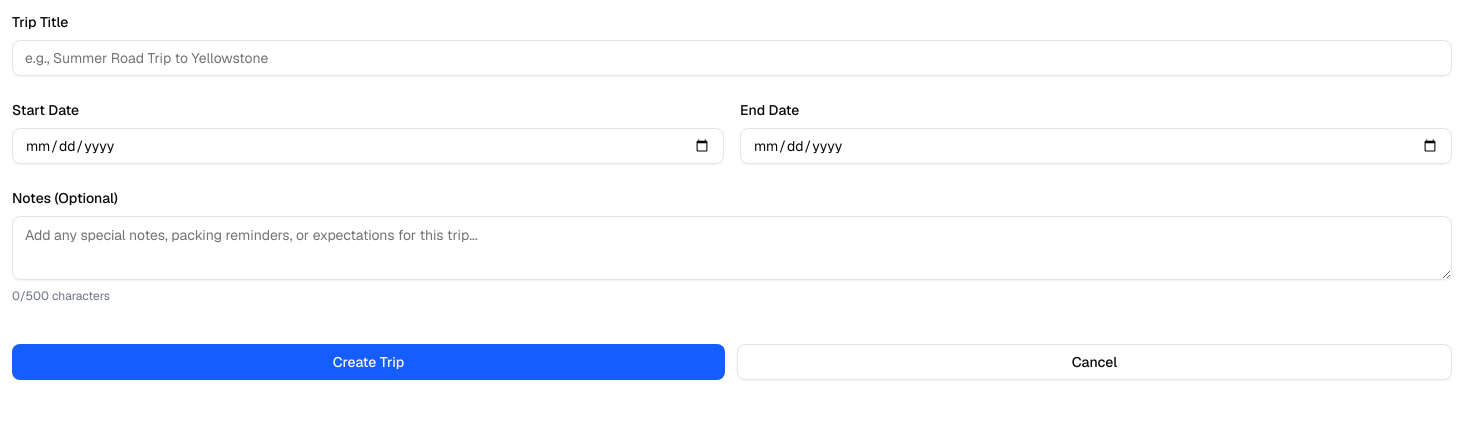
Test case: TripForm Component › Form Validation › should show validation error for invalid date range
Type "Test Trip" into the field labelled "Trip Title" at coordinates (732, 58), box [12,40,1452,76]
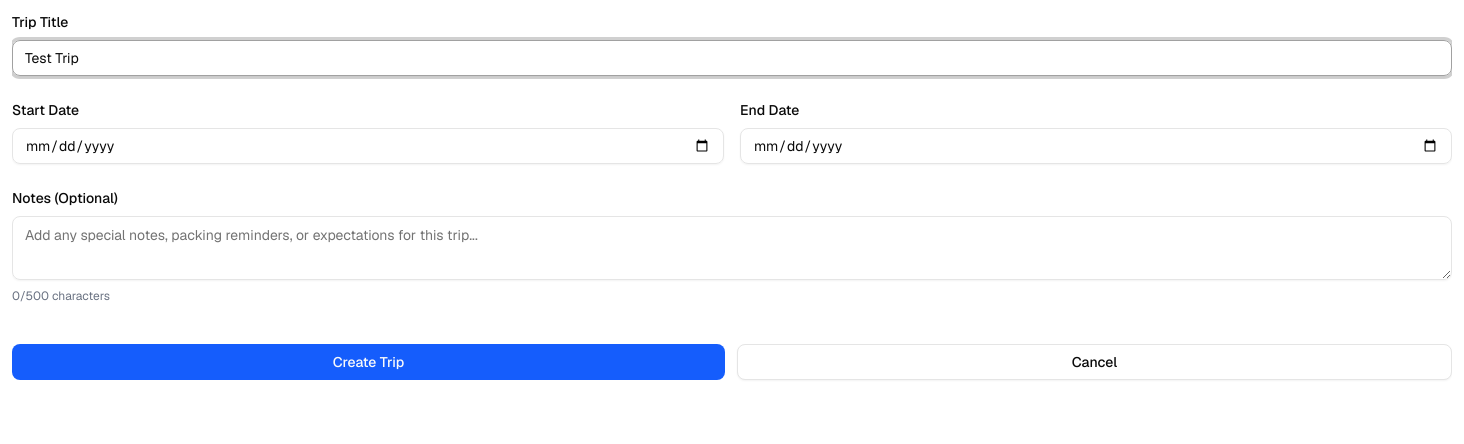
Type "2025-07-07" into the date field labelled "Start Date" at coordinates (368, 146), box [12,128,724,164]
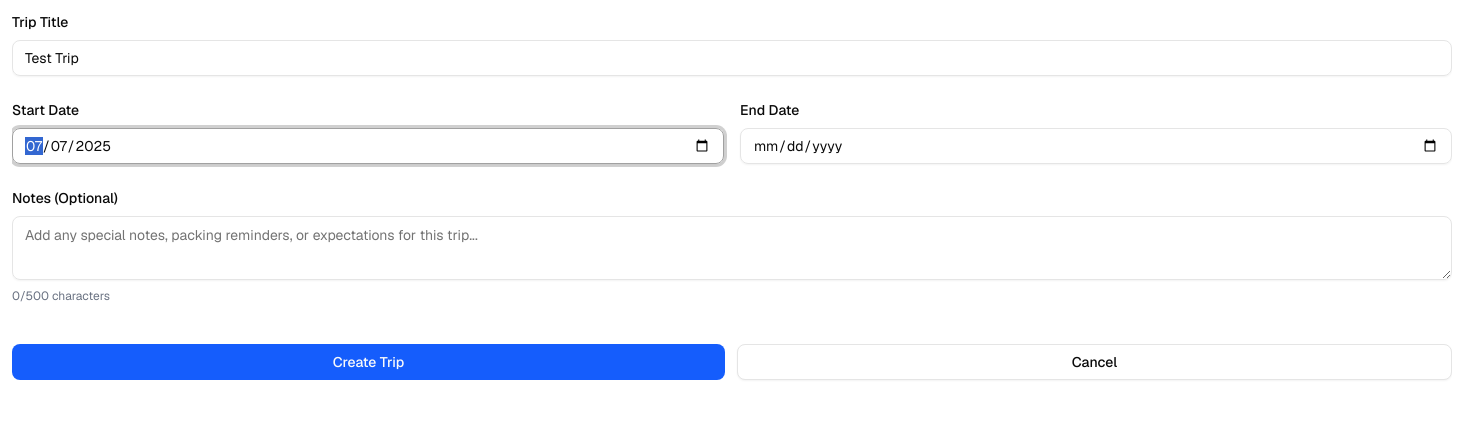
Type "2025-07-01" into the date field labelled "End Date" at coordinates (1096, 146), box [740,128,1452,164]
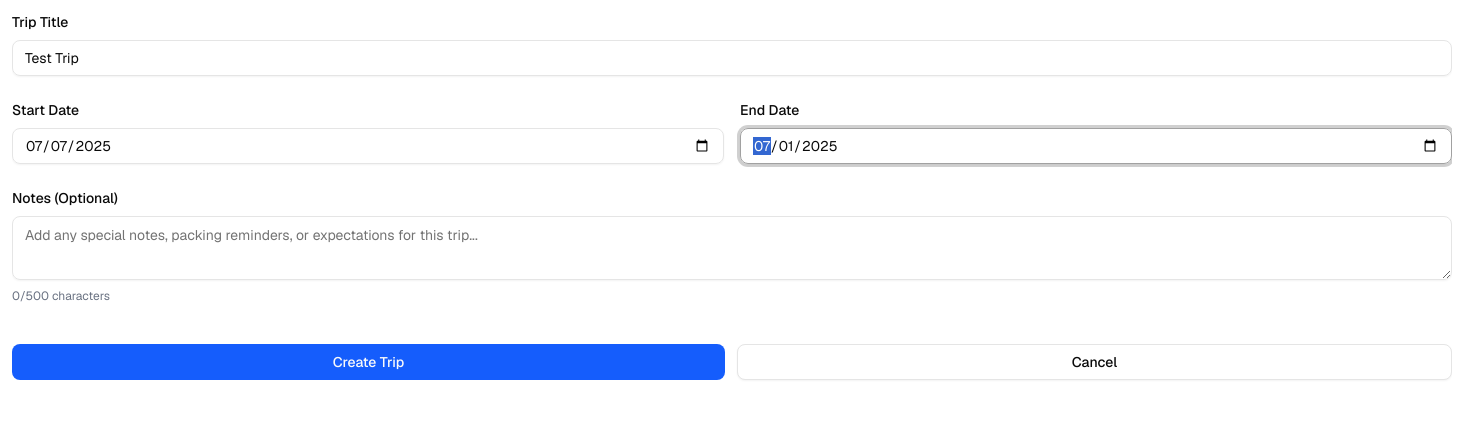
Click the button "Create Trip" at coordinates (368, 362), box [12,344,725,380]
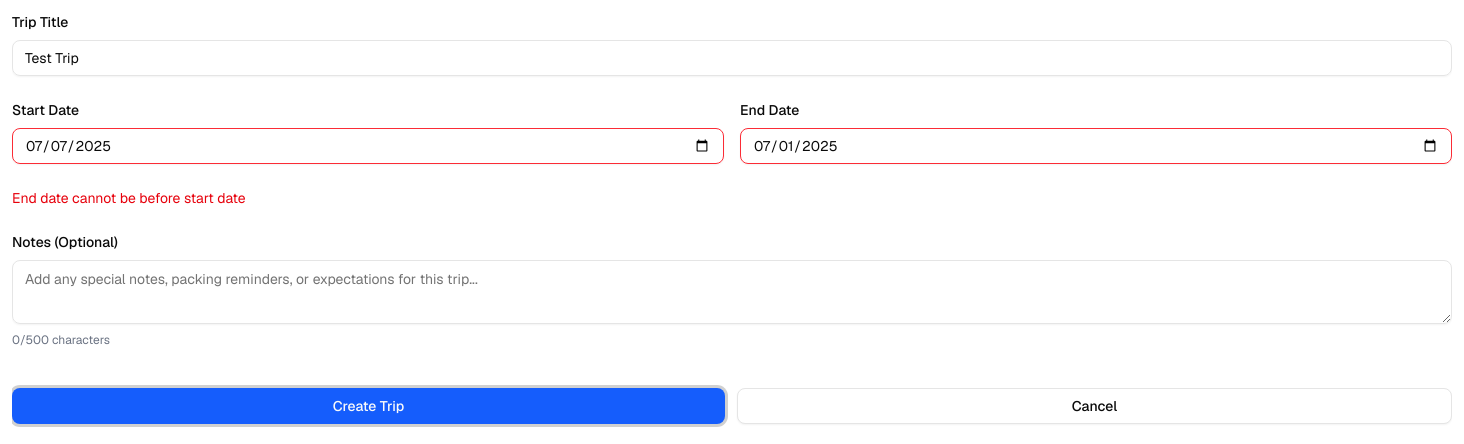
Expected: the text "End date cannot be before start date" is shown, [12,189,246,207]
